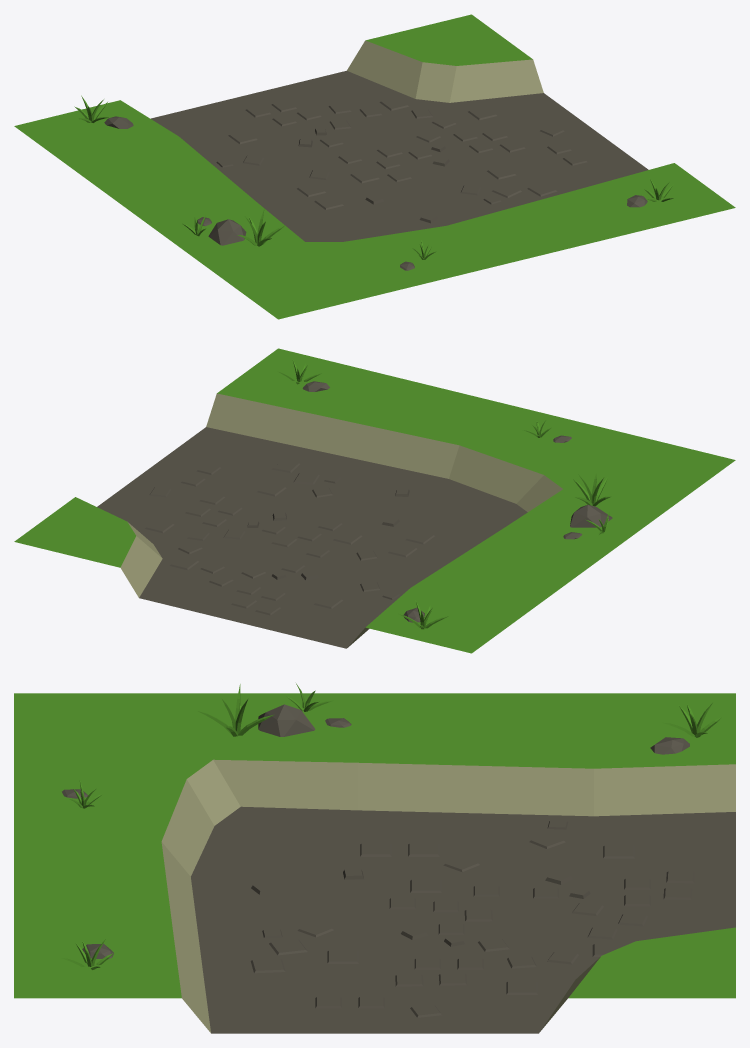
Rendered from RoadCornerB.fbx.
3 renders of one model, top to bottom at view 1: azimuth 30°, elevation 25°; view 2: azimuth 150°, elevation 25°; view 3: azimuth 270°, elevation 25°, orthographic. The views are drawn at different scales.
Parts seen in each view (by area): view 1: RoadCornerB; view 2: RoadCornerB; view 3: RoadCornerB.
Boxes of the visible parts, x1,y1,x2,y2 form: RoadCornerB: (14,14,735,319); RoadCornerB: (14,348,735,653); RoadCornerB: (14,683,735,1033).
Bounding box in the file's own units: 500 × 62.11 × 500.
